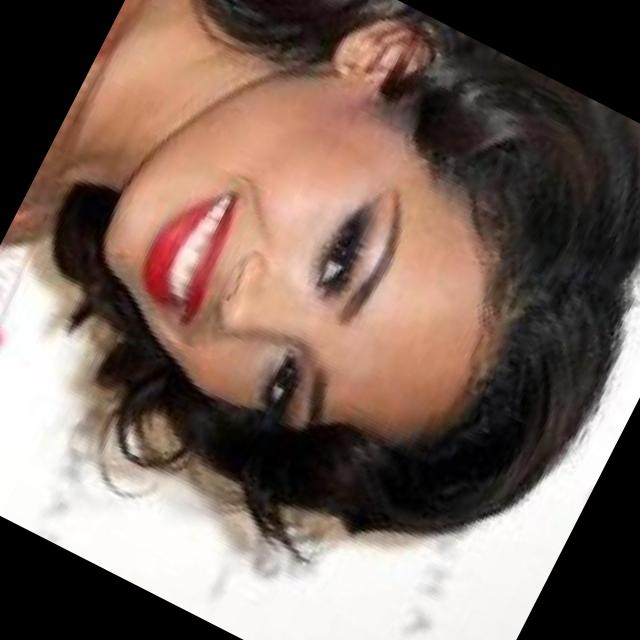bareface: (68, 9, 632, 534)
